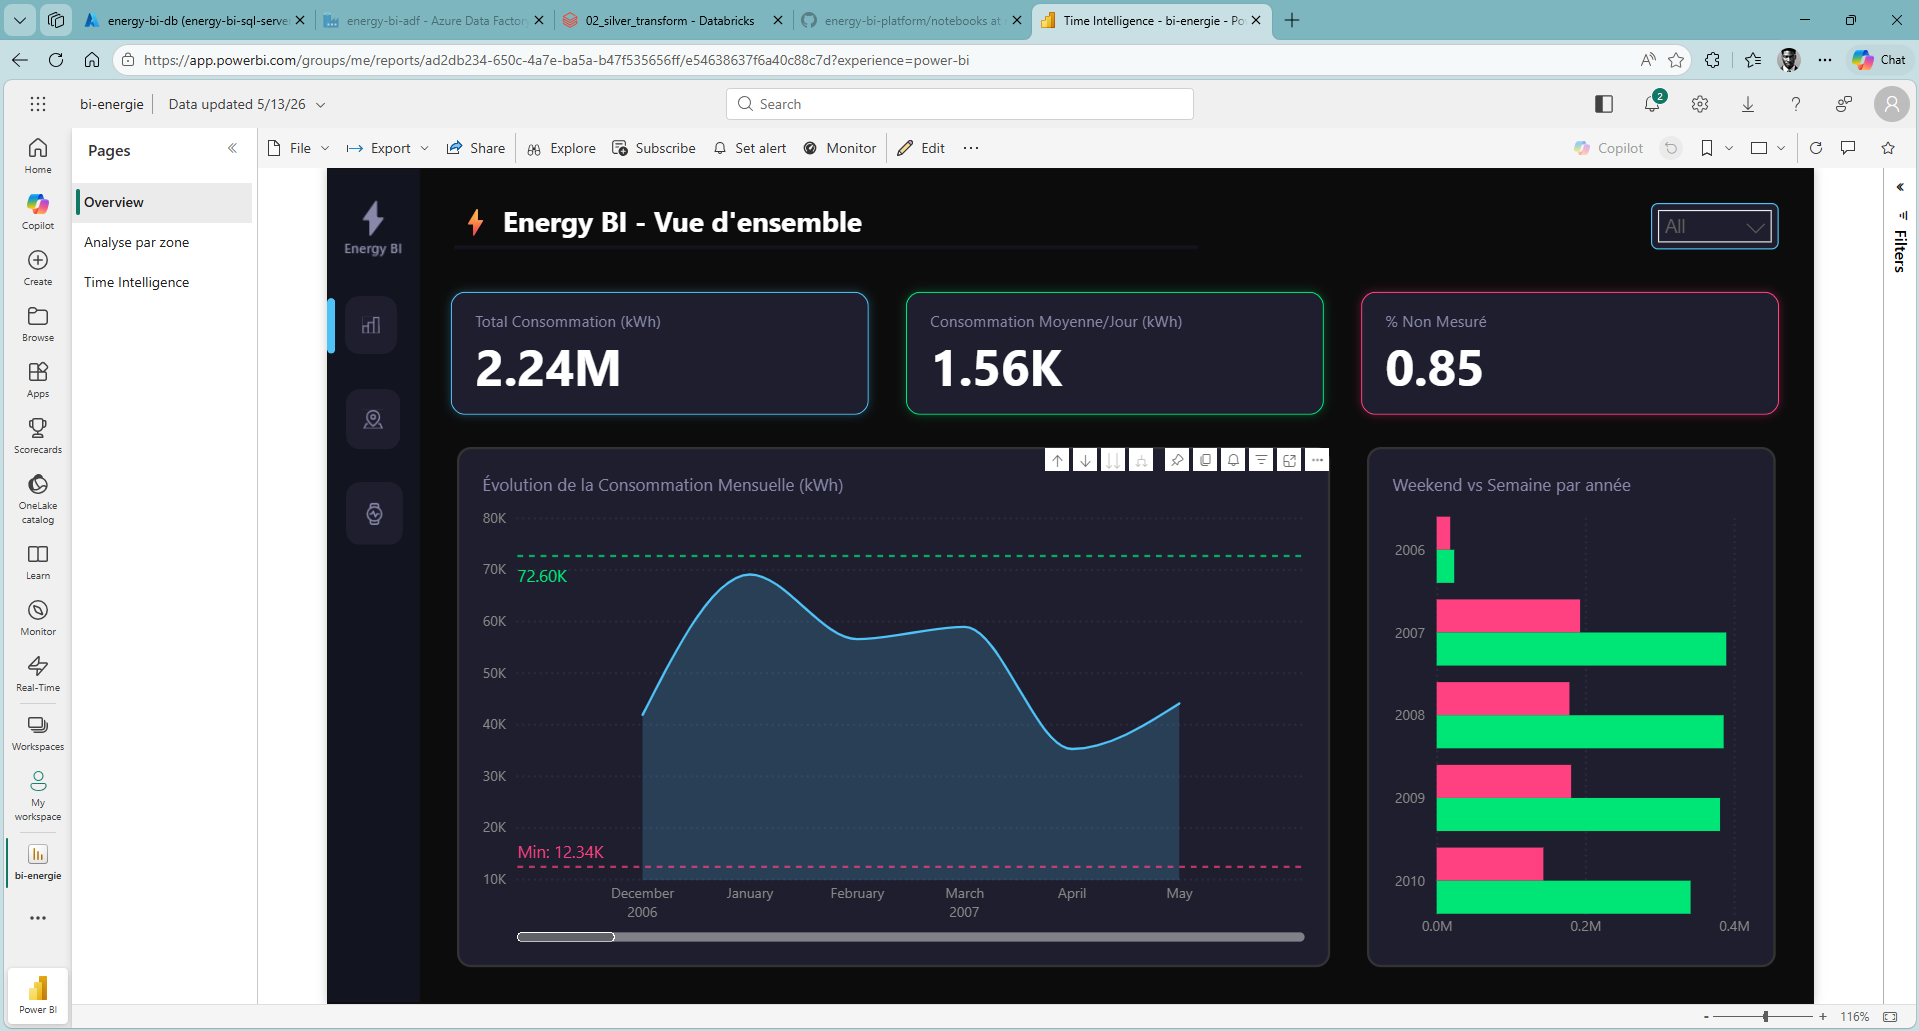

Layout of this report page (visuals, bound fields, positions):
{"tool":"powerbi","page":{"name":"Overview","canvas":[1280,720],"ordinal":0},"visuals":[{"type":"slicer","fields":{"Values":["DimDate.year"]},"box":[1140,30,110,40],"z":0},{"type":"actionButton","title":"📊","box":[15.2,110,44.8,50],"z":0,"group":"g1"},{"type":"actionButton","title":"📊","box":[15.9,190,46.9,52.1],"z":0,"group":"g2"},{"type":"actionButton","title":"📊","box":[16.7,270,49.1,54.3],"z":0,"group":"g3"},{"type":"cardVisual","title":"Energie Totale","fields":{"Data":["DimDate.Total Consommation (kWh)","DimDate.Consommation Moyenne/Jour (kWh)","DimDate.% Non Mesuré"]},"box":[96,96,1168,128],"z":1000},{"type":"shape","box":[0,112,7.2,48],"z":1000,"group":"g1"},{"type":"lineChart","title":"Évolution de la Consommation Mensuelle (kWh)","fields":{"Category":["DimDate.year","DimDate.month_name"],"Y":["DimDate.Total Consommation (kWh)"]},"box":[112,240,752,448],"z":2000},{"type":"clusteredBarChart","title":"Weekend vs Semaine par année","fields":{"Y":["DimDate.Consommation Weekend","DimDate.Consommation Semaine"],"Category":["DimDate.year"]},"box":[896,240,352,448],"z":3000},{"type":"textbox","box":[112,24,592,40],"z":4000},{"type":"group","id":"g1","title":"Overview button","box":[0,110,60,50],"z":5000,"group":"g4"},{"type":"group","id":"g2","title":"By Zone button","box":[0,190,60,50],"z":6000,"group":"g4"},{"type":"group","id":"g3","title":"Time Intel button","box":[0,270,60,50],"z":7000,"group":"g4"},{"type":"group","id":"g4","title":"buttons","box":[0,110,60,210],"z":7001}]}

Visuals, with their boxes on the page's 1280x720 design canvas (x1, y1, x2, y2). These are canvas units, not pixel positions in the 1919x1031 screenshot, which may show the page scaled, cropped or inside an application window:
slicer - DimDate.year: bbox=(1140, 30, 1250, 70)
"📊" actionButton: bbox=(15, 110, 60, 160)
"📊" actionButton: bbox=(16, 190, 63, 242)
"📊" actionButton: bbox=(17, 270, 66, 324)
"Energie Totale" cardVisual: bbox=(96, 96, 1264, 224)
shape: bbox=(0, 112, 7, 160)
"Évolution de la Consommation Mensuelle (kWh)" lineChart: bbox=(112, 240, 864, 688)
"Weekend vs Semaine par année" clusteredBarChart: bbox=(896, 240, 1248, 688)
textbox: bbox=(112, 24, 704, 64)
"Overview button" group: bbox=(0, 110, 60, 160)
"By Zone button" group: bbox=(0, 190, 60, 240)
"Time Intel button" group: bbox=(0, 270, 60, 320)
"buttons" group: bbox=(0, 110, 60, 320)
